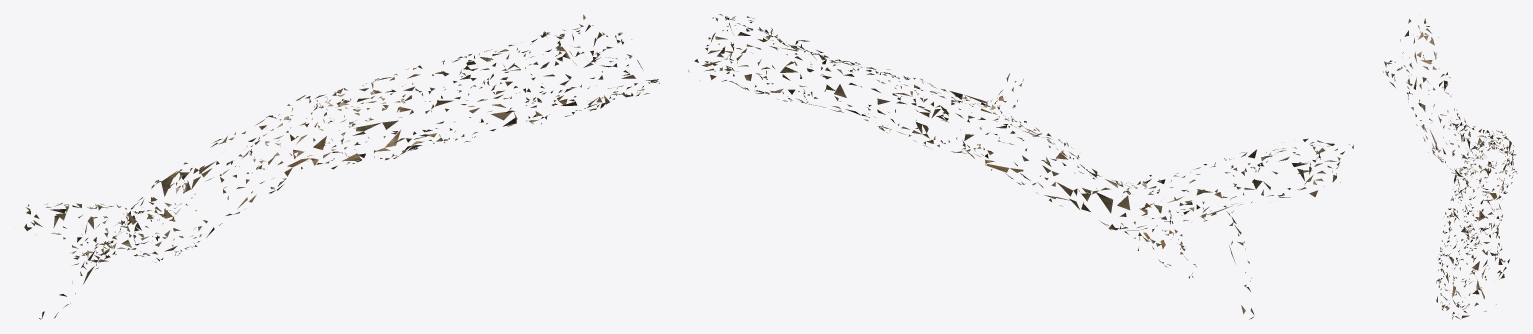
File: dead_tree_trunk_02.glb
3 views of the same model, side by side, from view 1: azimuth 30°, elevation 25°; view 2: azimuth 150°, elevation 25°; view 3: azimuth 270°, elevation 25° (orthographic). The views are drawn at different scales.
Visible parts, largest first — view 1: dead_tree_trunk_02; view 2: dead_tree_trunk_02; view 3: dead_tree_trunk_02.
Part boxes in pixels (box(x1,y1,x2,y2)): dead_tree_trunk_02: box(24, 14, 659, 319); dead_tree_trunk_02: box(688, 14, 1353, 319); dead_tree_trunk_02: box(1383, 18, 1517, 319).
Size of the model in its own units: 4.05 by 1.05 by 0.8989.
1 material, 1 textured.
